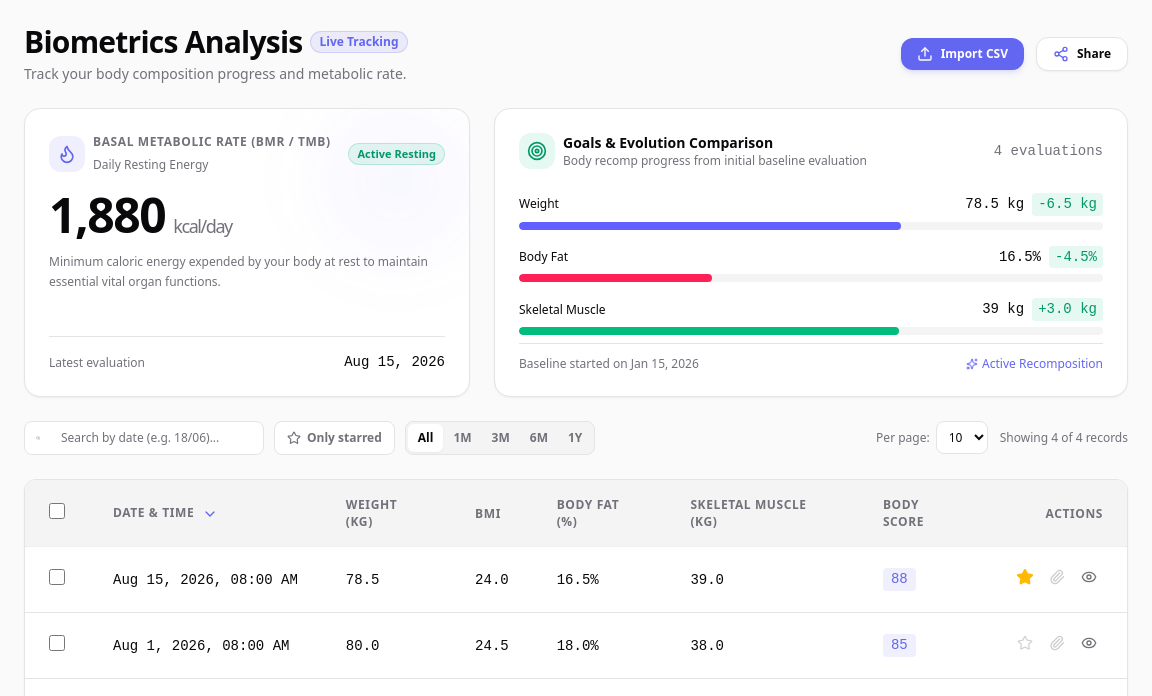
Biometrics View Component › opens CSV Import modal when Import CSV button is clicked
Expected: the heading "Biometrics Analysis" is shown, [24,24,302,60]
Click the button "Import CSV".
click(962, 54)  # box [901,38,1024,70]
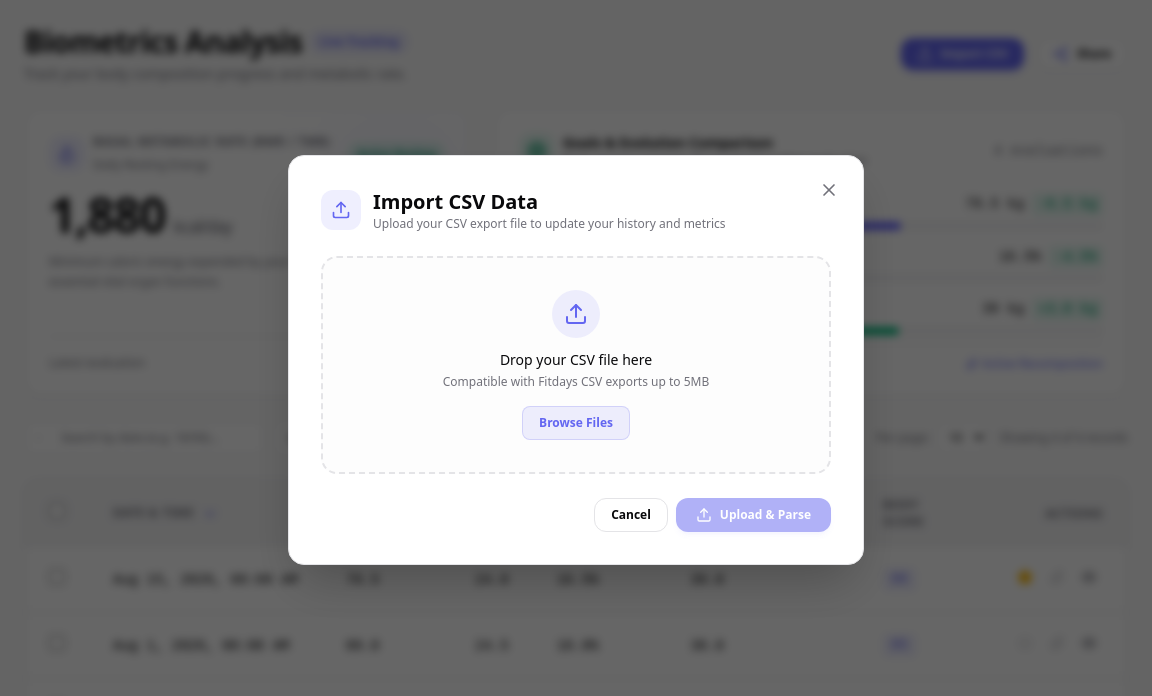
Now the text "Compatible with Fitdays CSV exports up to 5MB" is shown, box [443,374,709,390]
